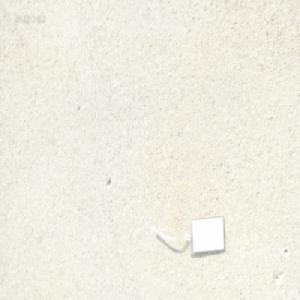LuggageTag: (148, 212, 224, 254)
